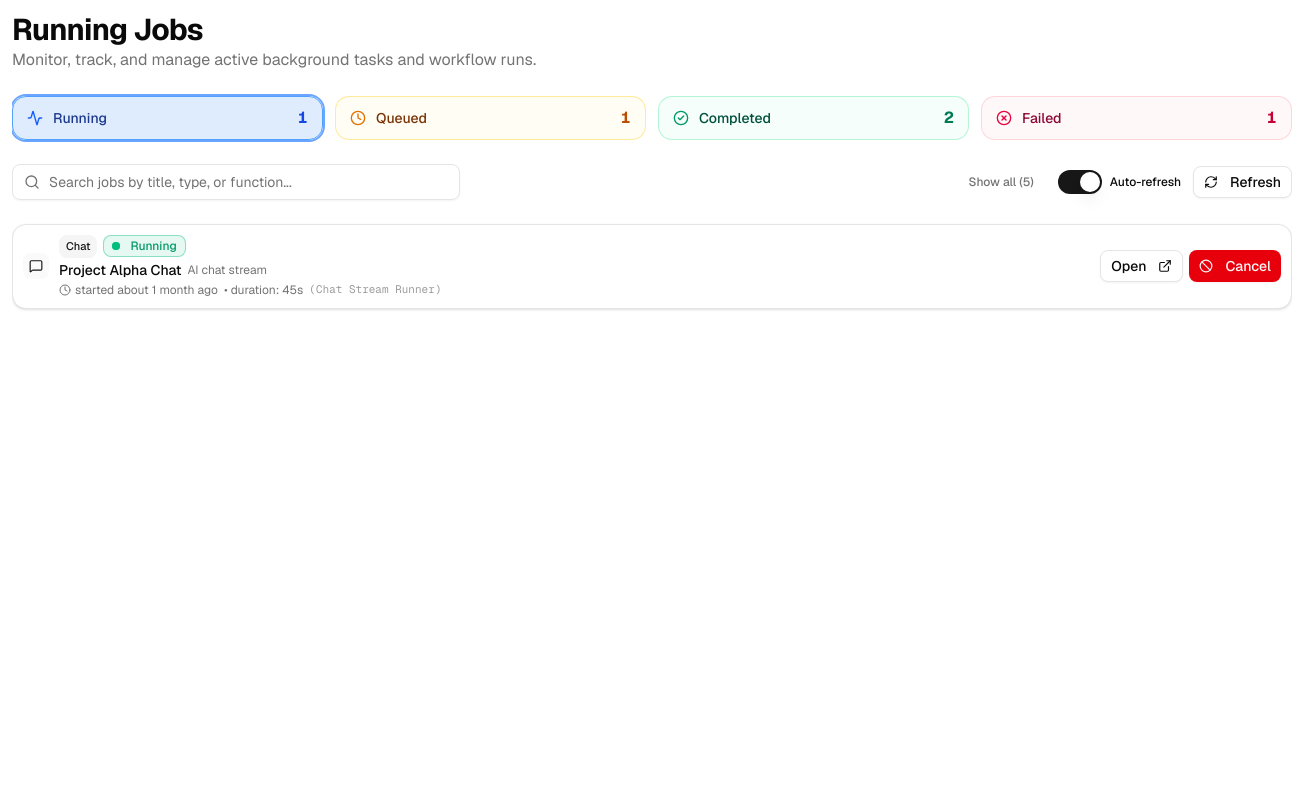
it: Running Jobs Page & JobsView Component › deleted entity handles gracefully (displays deleted badge, disables Open button)
The width and height of the screenshot is (1304, 812).
// Switch to All via Show all button where deleted entity is present
Click the button "Show all (5)": (1001, 182) [956, 166, 1046, 198]
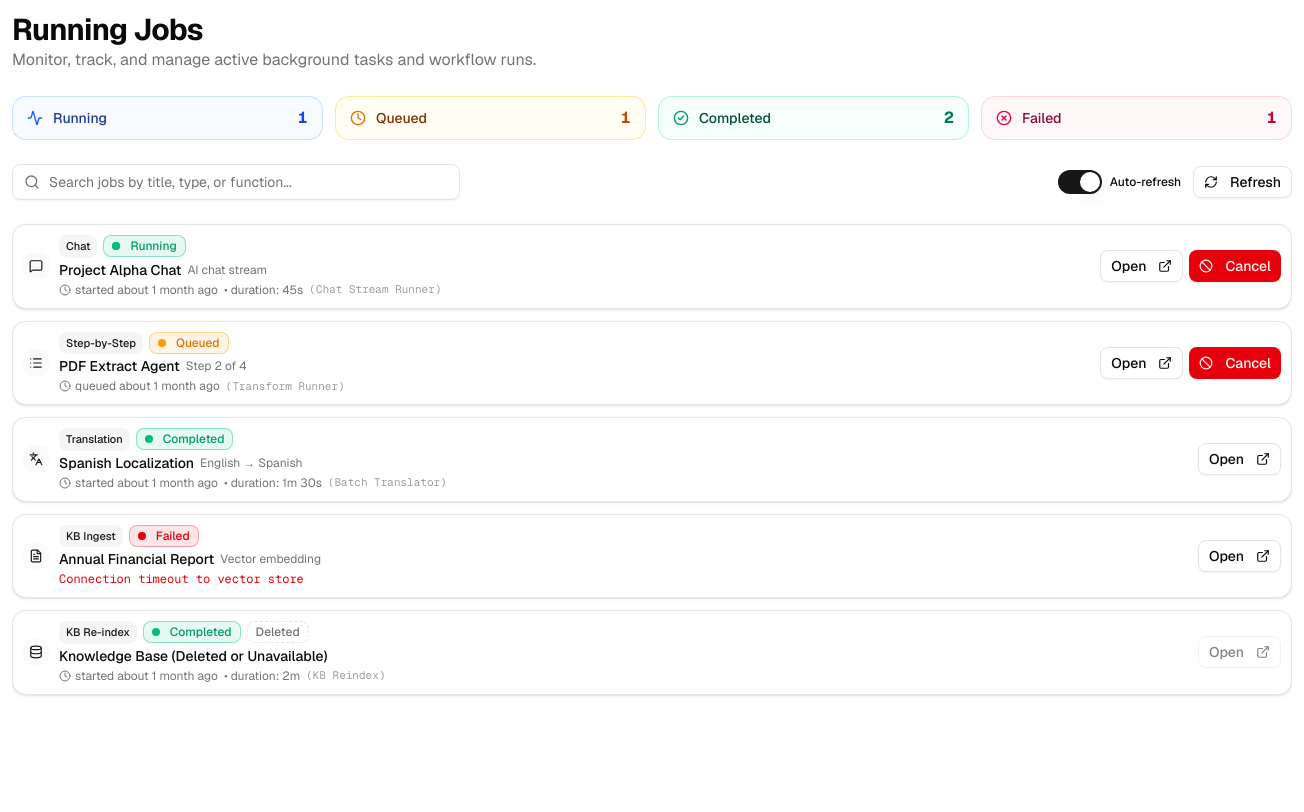
Expected: the text "Knowledge Base (Deleted or Unavailable)" is shown, [59, 646, 328, 666]
Expected: the text "Deleted" is shown, [247, 621, 309, 643]
